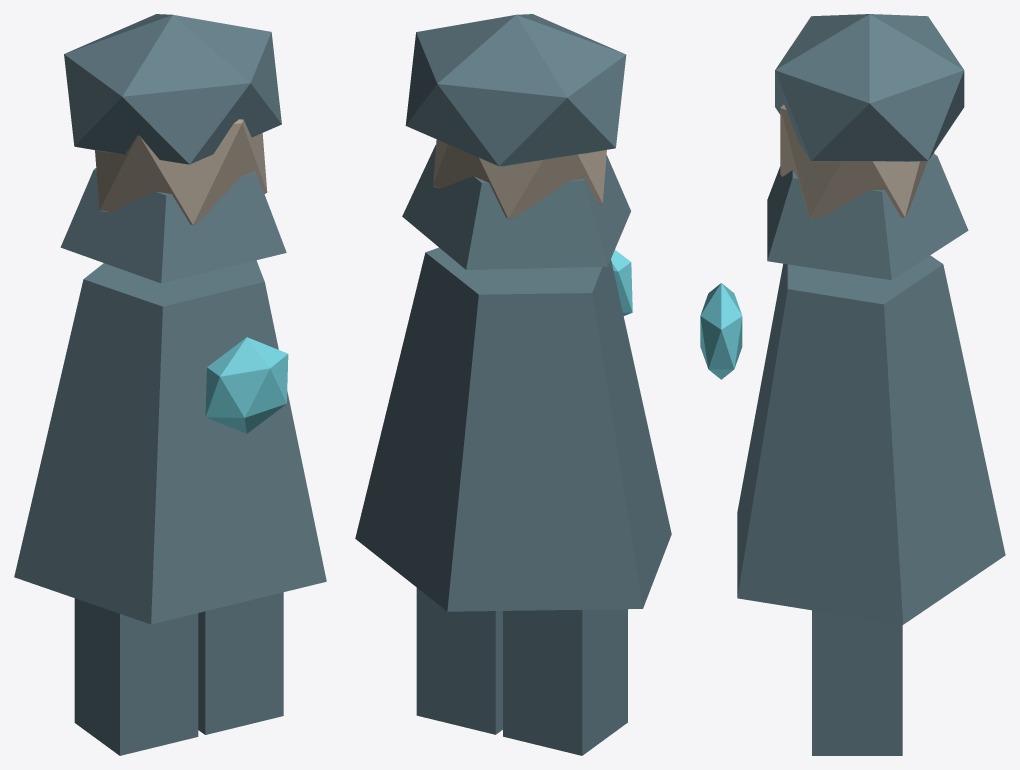
File: guardian-v01.glb
3 renders of one model, left to right at view 1: azimuth 30°, elevation 25°; view 2: azimuth 150°, elevation 25°; view 3: azimuth 270°, elevation 25°, orthographic.
Parts seen in each view (by area): view 1: cloak, hood, leg, high collar, leg.001, head, heart light; view 2: cloak, hood, leg, high collar, leg.001, head, heart light; view 3: cloak, hood, high collar, leg.001, head, heart light.
Boxes of the visible parts, x1,y1,x2,y2 form: cloak: [14, 260, 326, 624]; hood: [64, 14, 281, 164]; leg: [74, 598, 198, 755]; high collar: [60, 168, 286, 283]; leg.001: [198, 592, 283, 734]; head: [95, 119, 267, 225]; heart light: [205, 337, 288, 433]; cloak: [355, 247, 671, 611]; hood: [405, 14, 626, 166]; leg: [503, 609, 627, 755]; high collar: [402, 144, 630, 269]; leg.001: [416, 588, 502, 734]; head: [433, 139, 606, 218]; heart light: [611, 250, 632, 315]; cloak: [737, 255, 1005, 624]; hood: [775, 14, 964, 161]; high collar: [767, 153, 968, 279]; leg.001: [812, 610, 902, 755]; head: [780, 104, 934, 218]; heart light: [700, 283, 742, 379].
Size of the model in its own units: 0.7989 by 1.88 by 0.741.
